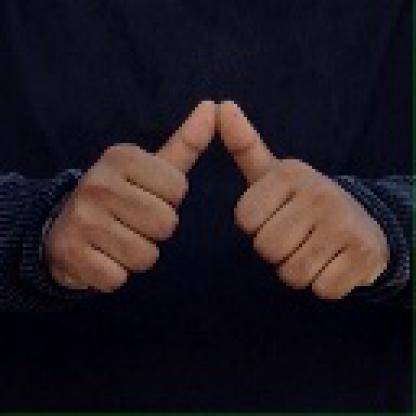A: (50, 84, 383, 307)
